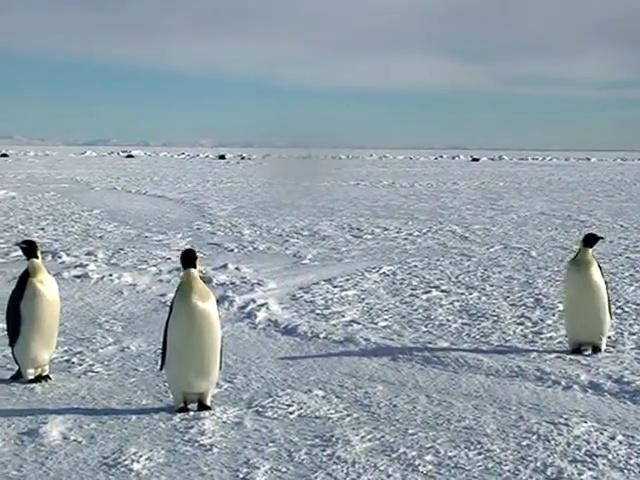animal: (160, 248, 221, 411)
